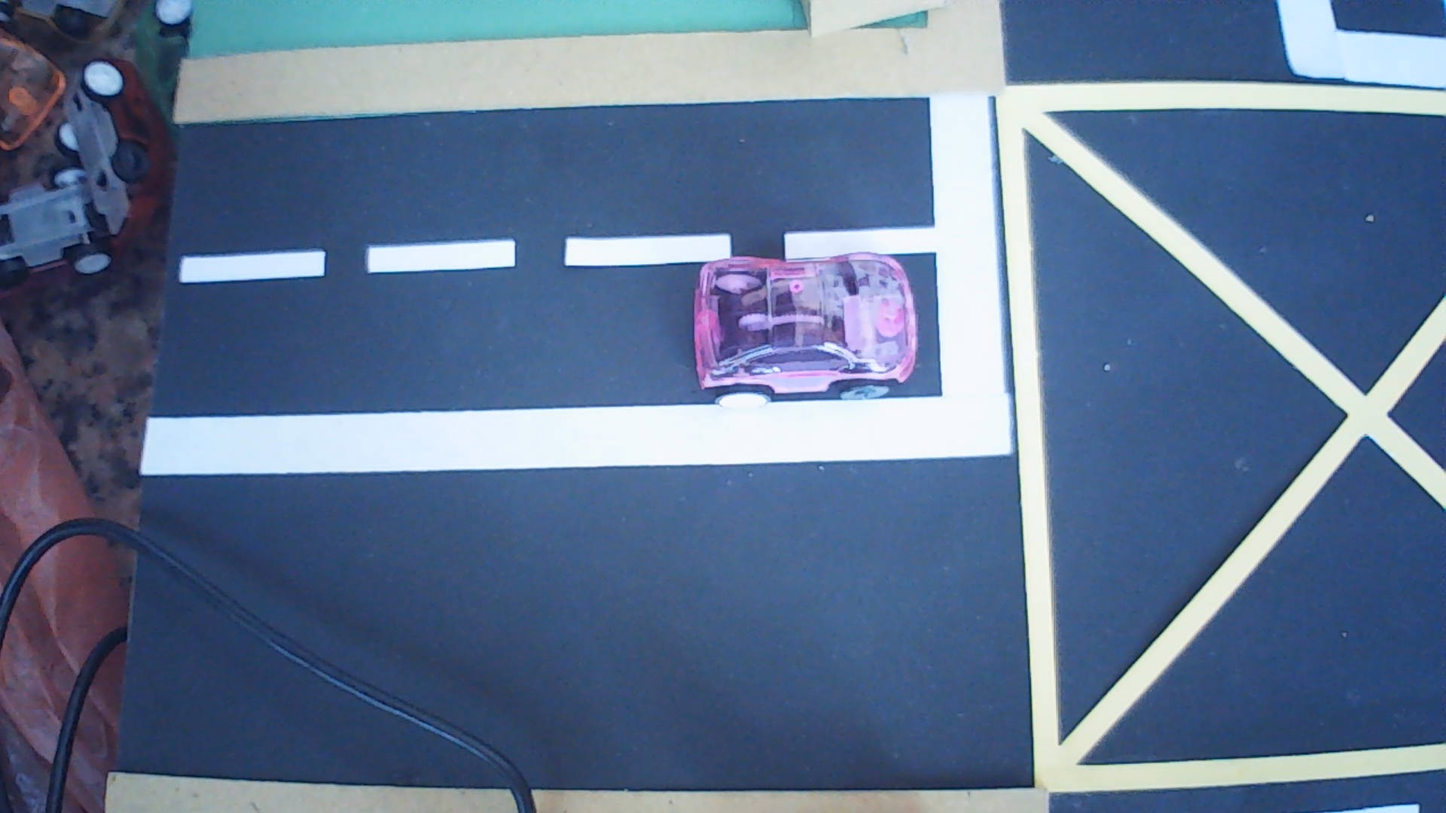Mobil ungu: (694, 253, 918, 404)
